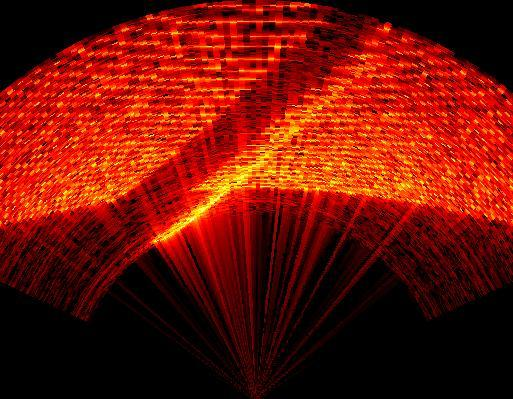pipe: (119, 12, 398, 246)
